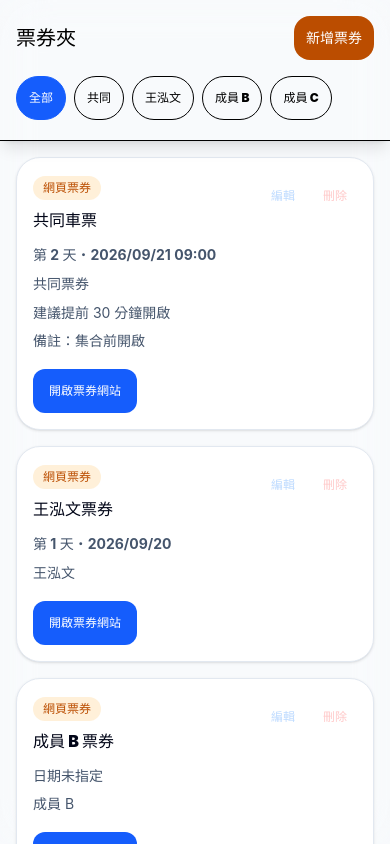
Test case: TicketWalletSection › allows unconfirmed browsing without a repeated companion settings entry or assigning mine
The image size is (390, 844).
Expected: the number of elements with test id "ticket-card" is 3, [16,157,374,430]; [16,446,374,662]; [16,678,374,843]
Click the button with test id "ticket-filter-member".
click(232, 98)  # box [202,76,262,120]
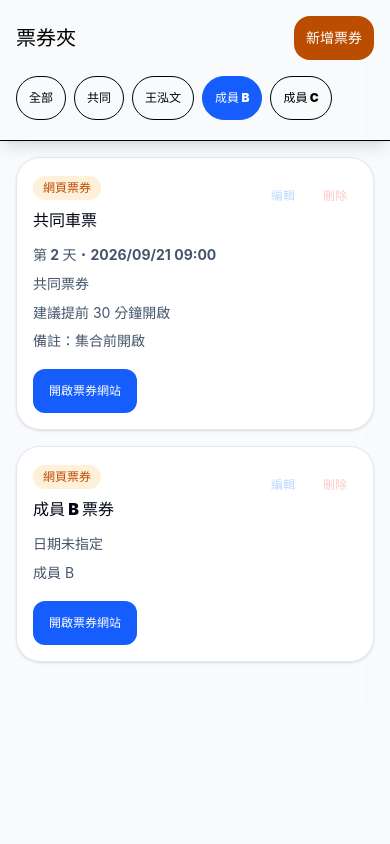
Expected: the heading "成員 B 票券" is shown, [33,497,114,521]
Now the heading "王泓文票券" is gone
